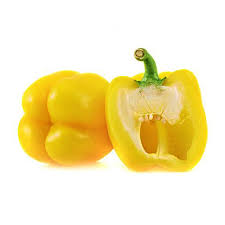bell pepper: (86, 45, 213, 195), (11, 64, 117, 185)
